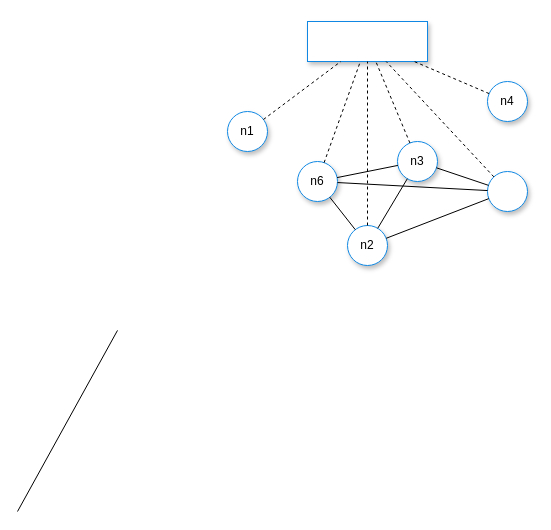
This 551x530 diagram has some shape labels left out. Each missing label, with the centre of its shape:
"n5" goes at (508,192).
"Suchserver" goes at (368,42).
